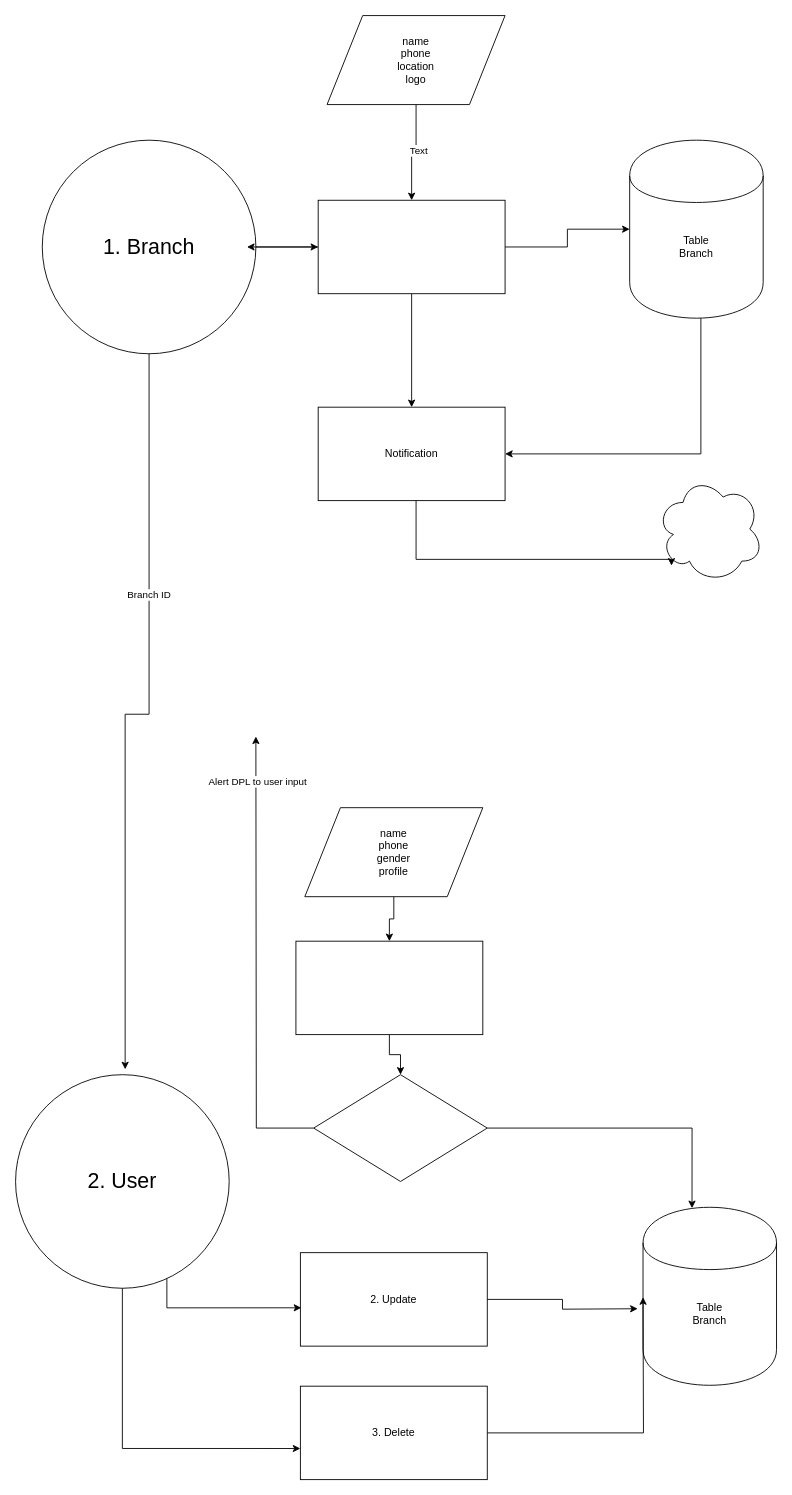
The diagram is 792 pixels wide and 1495 high, and some of its shapes have lost their labels. Each missing label, with the box of its shape:
1. Create: (295, 940, 483, 1035)
1. Update: (317, 199, 505, 294)
Firebase: (655, 475, 763, 583)
new phone != old phone: (313, 1074, 487, 1181)
